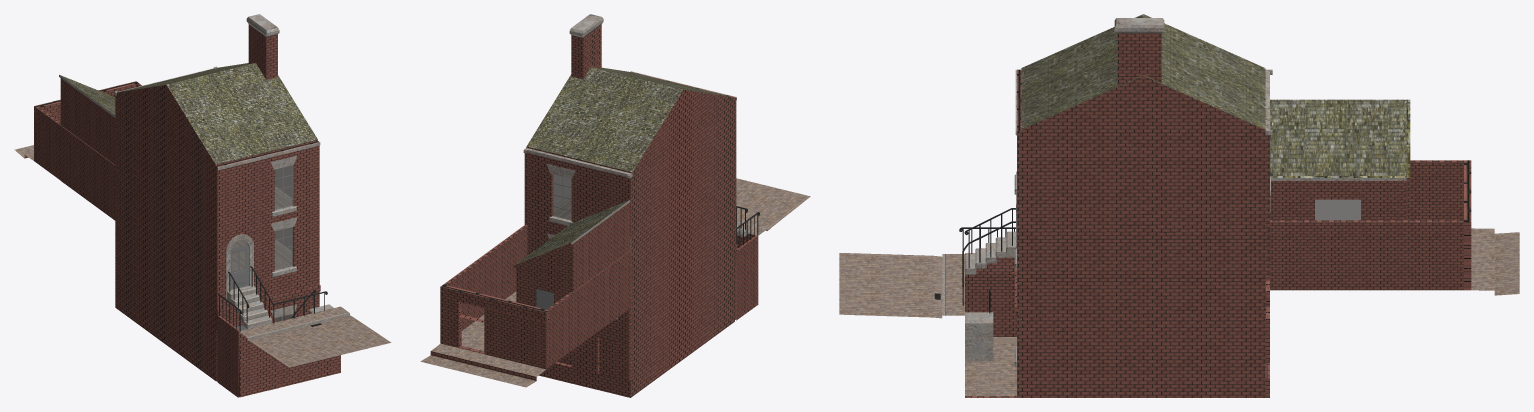
The model's file is TERRACEBRICKv.fbx.
3 renders of one model, left to right at view 1: azimuth 30°, elevation 25°; view 2: azimuth 150°, elevation 25°; view 3: azimuth 270°, elevation 25°, orthographic. The views are drawn at different scales.
Visible parts, largest first — view 1: arch.000; view 2: arch.000; view 3: arch.000.
Part boxes in pixels (bbox=[...]): arch.000: bbox=[14, 14, 391, 397]; arch.000: bbox=[420, 14, 810, 397]; arch.000: bbox=[839, 14, 1519, 397].
Bounding box in the file's own units: 659 × 1853 × 3067.
9 materials, 5 textured.
